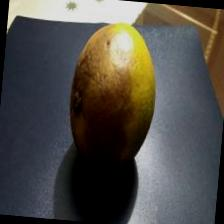Orange Rotten: (51, 14, 172, 186)
